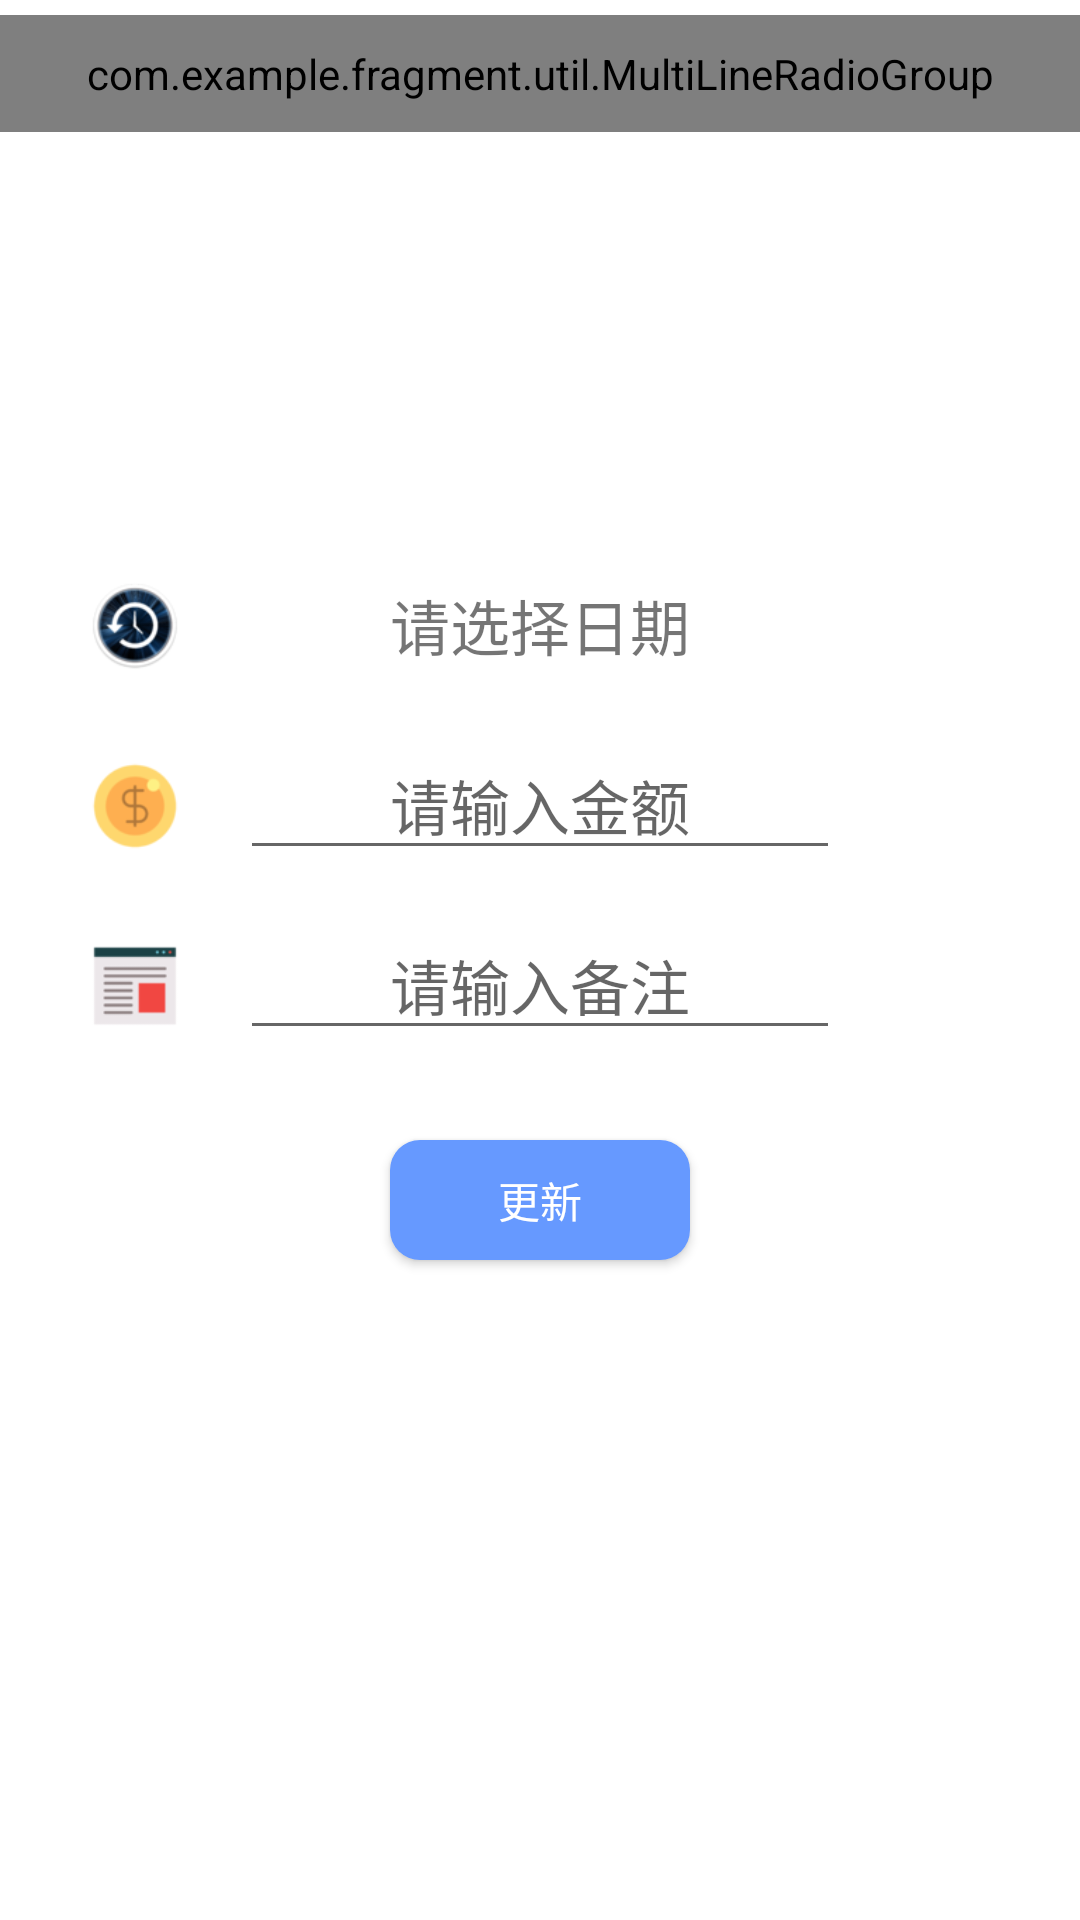

Point at icon controls on the screen. Image size 1080x1920, points as [x,y].
coins: [135,806]
text: [135,981]
